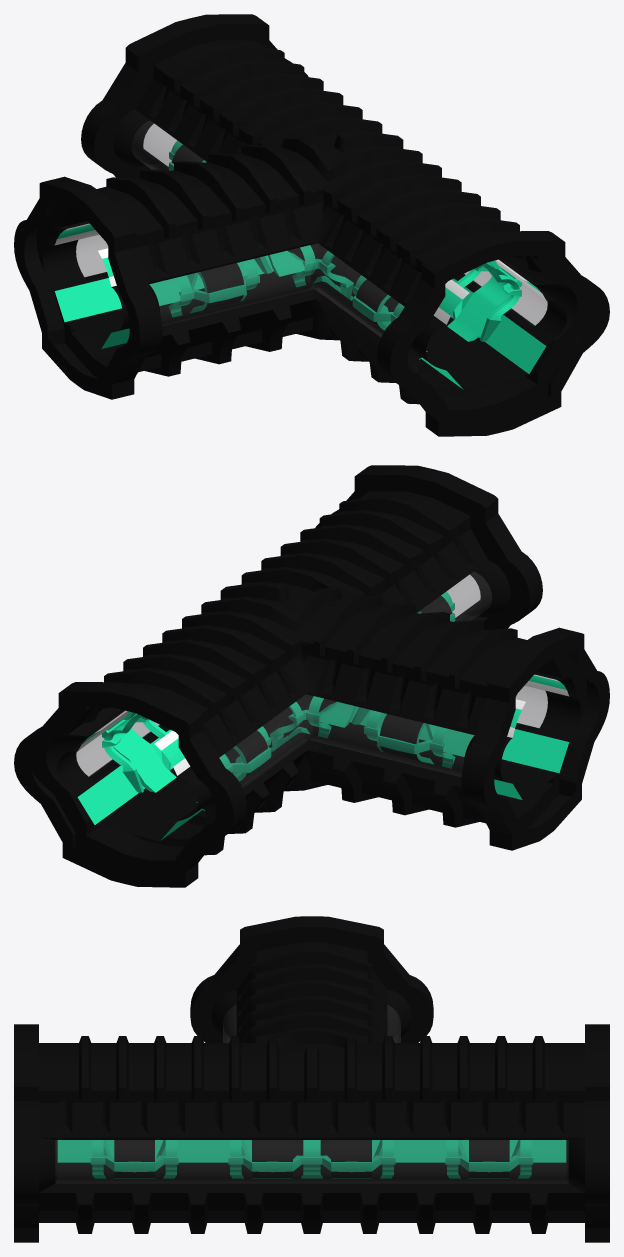
Rendered from Connect_01.FBX.
The picture shows the model from 3 angles, top to bottom: view 1: azimuth 30°, elevation 25°; view 2: azimuth 150°, elevation 25°; view 3: azimuth 270°, elevation 25°; orthographic projection. The views are drawn at different scales.
Parts seen in each view (by area): view 1: Connect_Tshape; view 2: Connect_Tshape; view 3: Connect_Tshape.
Boxes of the visible parts, box(x1,y1,x2,y2) form: Connect_Tshape: box(14, 14, 609, 436); Connect_Tshape: box(14, 465, 609, 887); Connect_Tshape: box(14, 916, 609, 1242).
Bounding box in the file's own units: 1605 × 764 × 2270.
